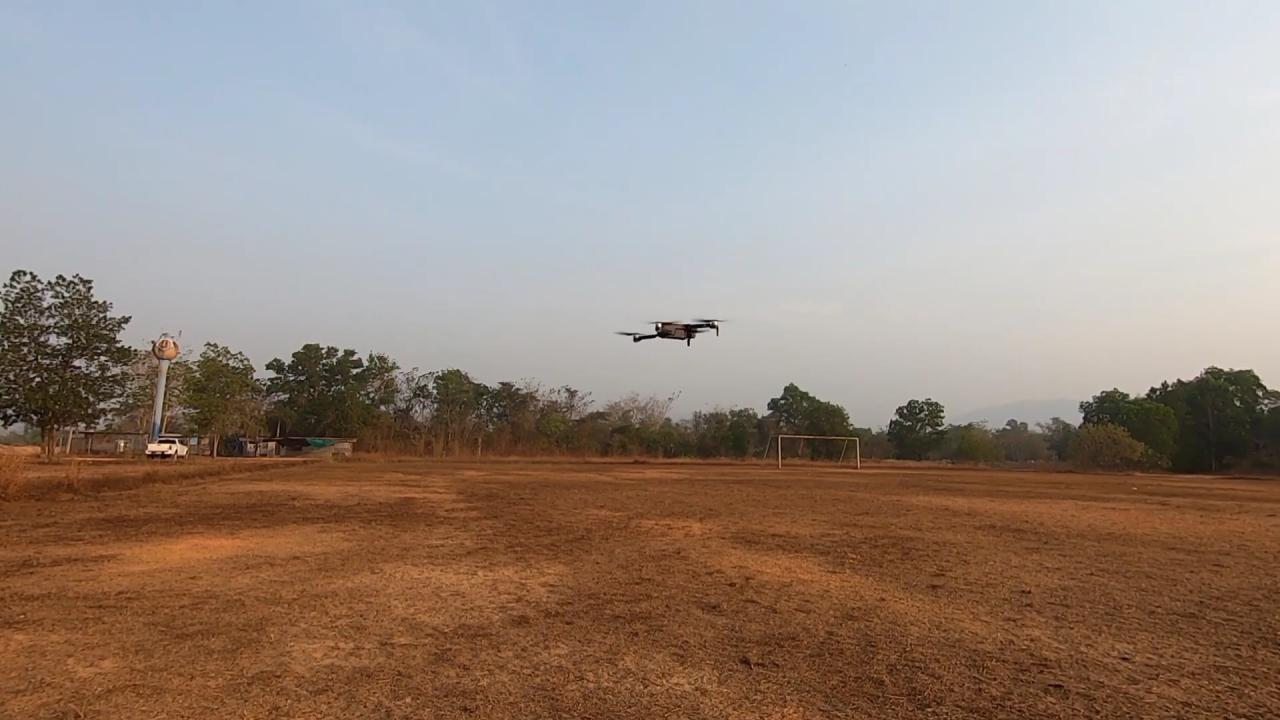Drone: (605, 300, 731, 362)
